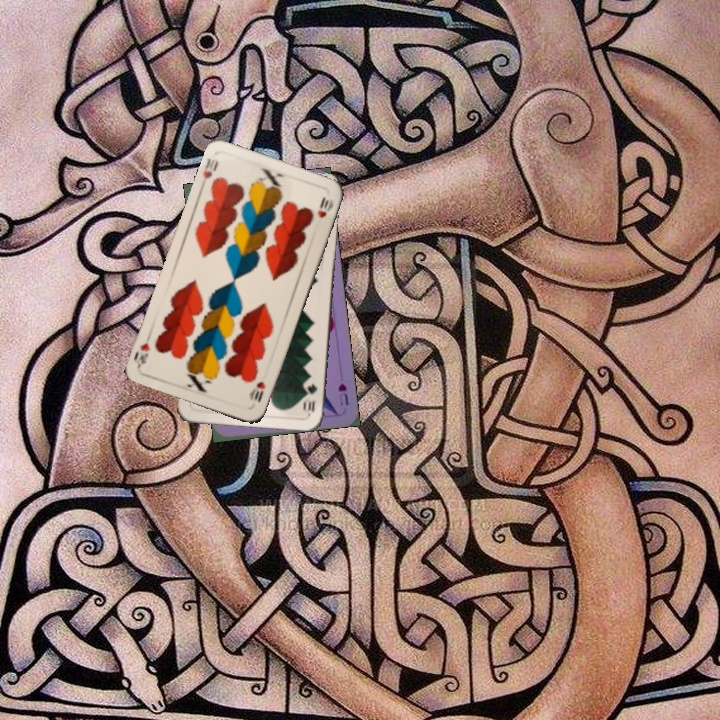G10: (301, 379, 319, 416)
H10: (246, 377, 268, 405), (199, 154, 221, 181)
HU: (334, 379, 351, 407)
